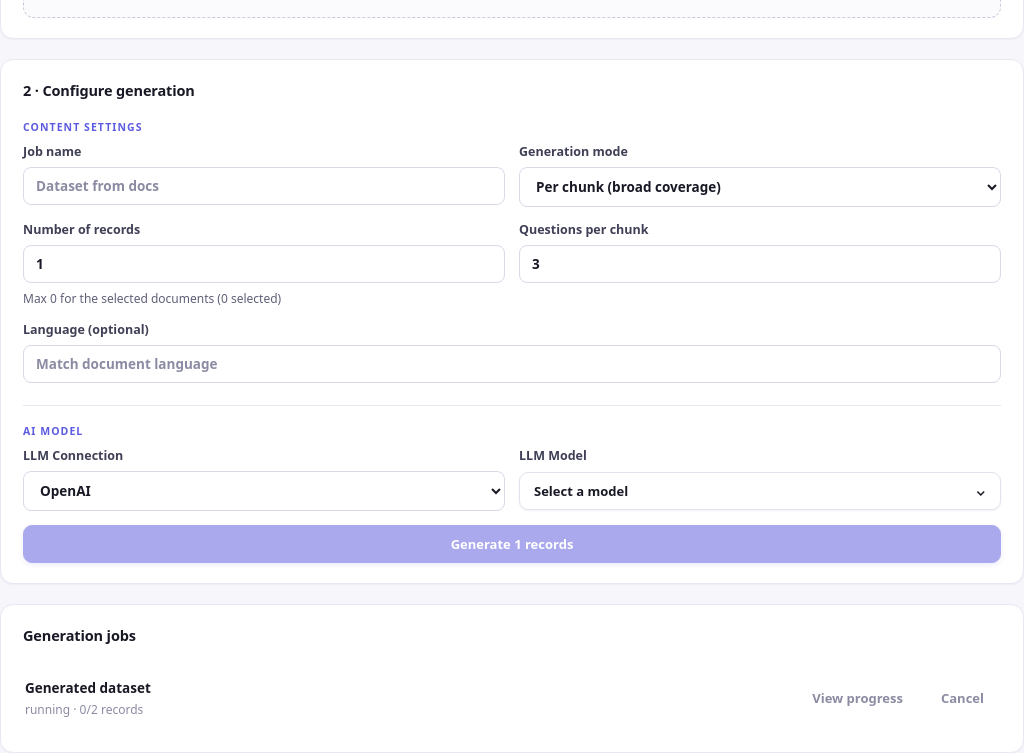
Test: GenerateWizard › renders a cancelled progress state with a Back action
(page scrolled)
Click the button "View progress" at (858, 699), box [797,682,918,715]
Wait 2000 ms
(page scrolled)
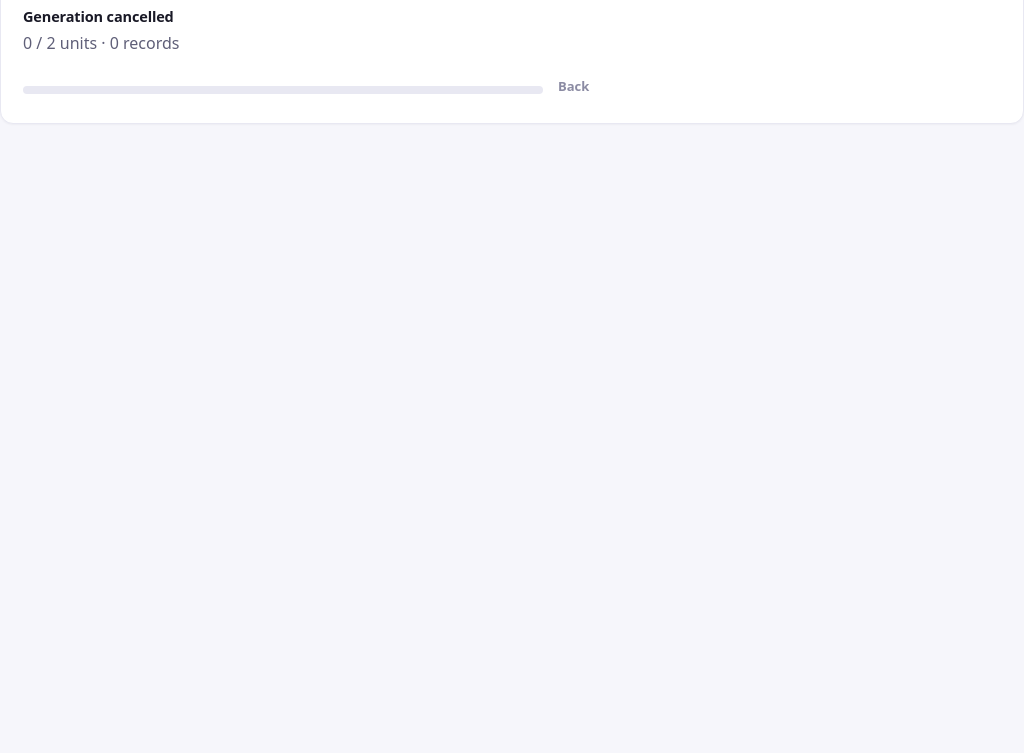
Result: the heading "Generation cancelled" is shown at [23,6,174,26]
Result: the button "Back" is shown at [543,70,604,103]
